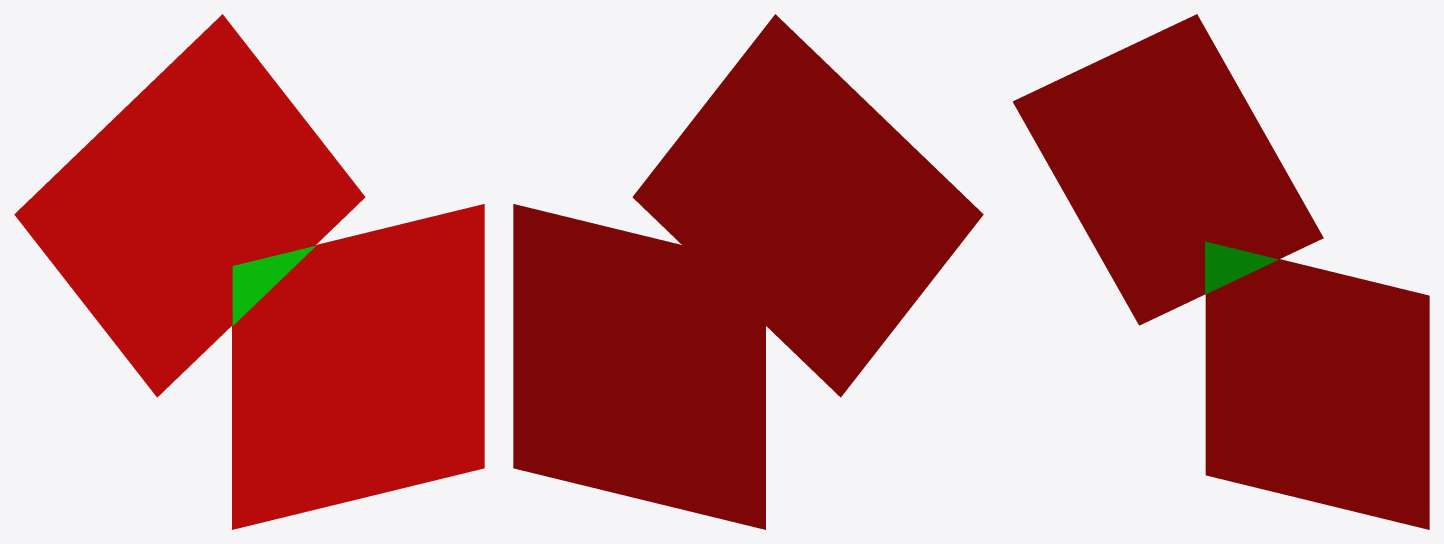
File: physics_validation.glb
3 views of the same model, side by side, from view 1: azimuth 30°, elevation 25°; view 2: azimuth 150°, elevation 25°; view 3: azimuth 330°, elevation 25° (orthographic). The views are drawn at different scales.
Parts seen in each view (by area): view 1: Plane, Plane.001, Plane.002; view 2: Plane, Plane.001; view 3: Plane, Plane.001, Plane.002.
Boxes of the visible parts, x1,y1,x2,y2 form: Plane: (232,204,484,529); Plane.001: (14,14,365,397); Plane.002: (232,246,315,325); Plane: (513,204,765,529); Plane.001: (632,14,983,397); Plane: (1205,241,1429,529); Plane.001: (1012,14,1323,325); Plane.002: (1205,241,1278,294).
Size of the model in its own units: 3.72 by 3.92 by 0.01.
2 materials, 2 textured.
